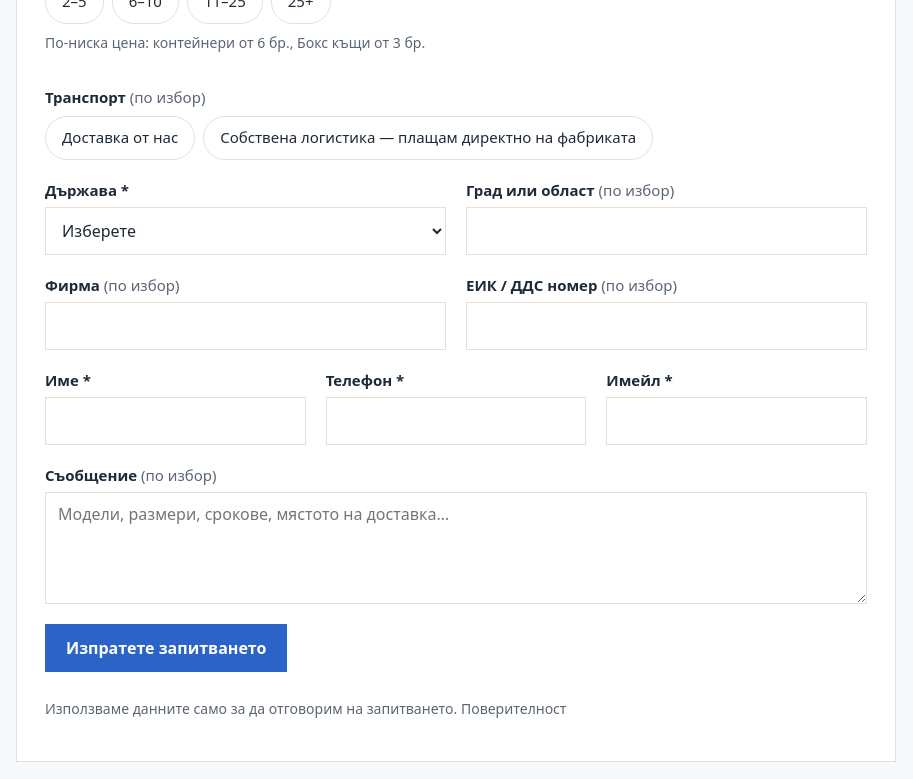
it: PartnerEnquiry › sends nothing until the required fields are there, and says which
(page scrolled)
Click the button "Изпратете запитването" at (166, 648), box [45,624,287,672]
(page scrolled)
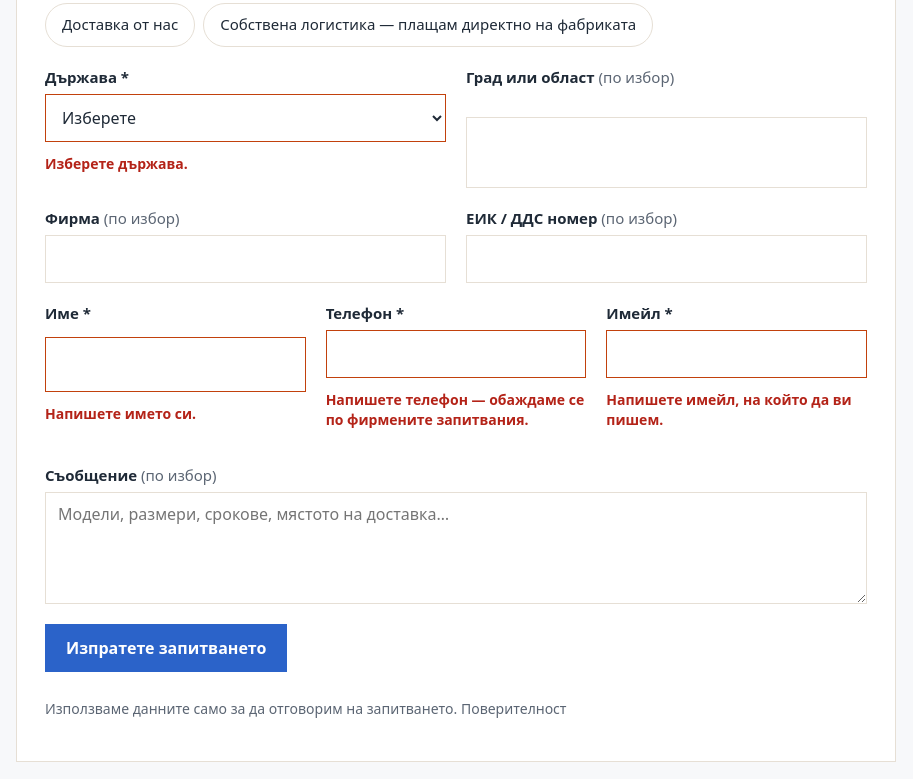
Expected: the text "Изберете държава." is shown, [45,154,188,173]
Expected: the text "Напишете името си." is shown, [45,404,196,422]
Expected: the text "Напишете телефон — обаждаме се по фирмените запитвания." is shown, [326,390,586,431]
